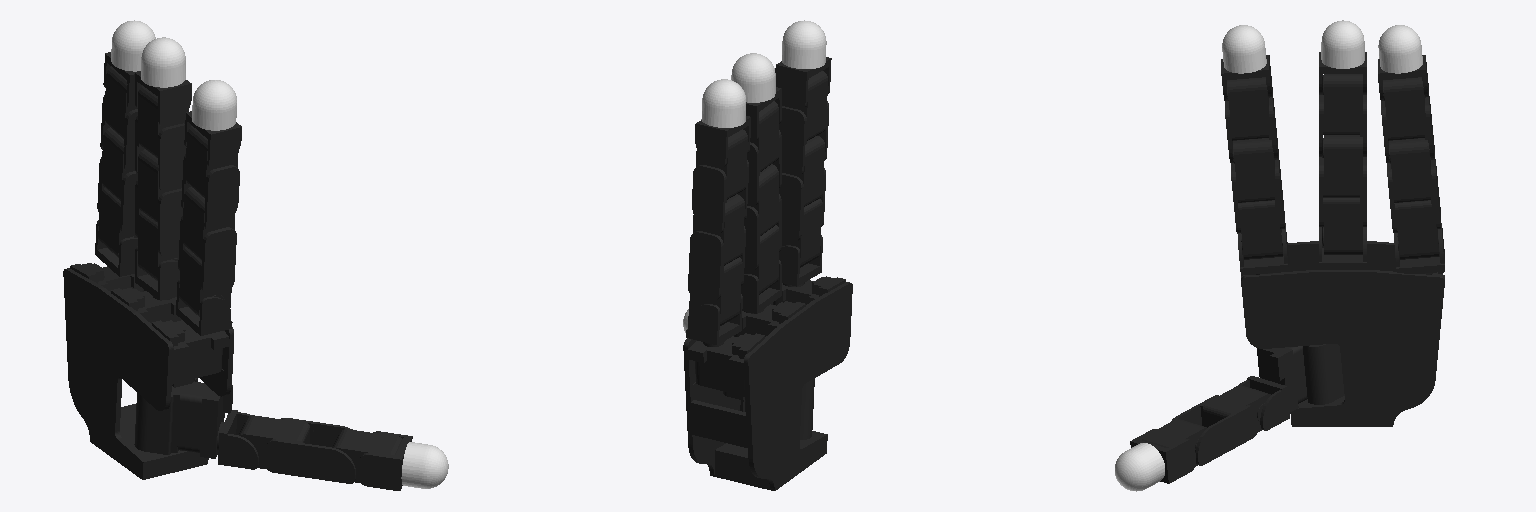
robot.urdf — allegro_hand_left:
<?xml version="1.0" ?>
<!-- =================================================================================== -->
<!-- |    This document was autogenerated by xacro from urdf/allegro_hand_description_left.xacro | -->
<!-- |    EDITING THIS FILE BY HAND IS NOT RECOMMENDED                                 | -->
<!-- =================================================================================== -->
<robot name="allegro_hand_left" xmlns:xacro="http://www.ros.org/wiki/xacro">
  <!-- ============================================================================= -->
  <!-- Base link -->
  <link name="hand_root">
    <origin xyz="0 0 0"/>
  </link>
  <joint name="root_to_base" type="fixed">
    <parent link="hand_root"/>
    <child link="palm_link"/>
    <origin xyz="0 0 0.095"/>
  </joint>
  <!-- PALM -->
  <link name="palm_link">
    <visual>
      <geometry>
        <mesh filename="../meshes/base_link_left.obj"/>
      </geometry>
      <origin rpy="-1.5707963259 0 0" xyz="0 0 0 "/>
      <material name="black">
        <color rgba="0.2 0.2 0.2 1"/>
      </material>
    </visual>
    <collision>
      <origin rpy="0 0 0" xyz="-0.009300 0 -0.0475"/>
      <geometry>
        <box size="0.0408 0.1130 0.095"/>
      </geometry>
    </collision>
    <inertial>
      <origin rpy="0 0 0" xyz="0 0 0"/>
      <mass value="0.4154"/>
      <inertia ixx="0.00517278" ixy="0.000146068" ixz="0.000373001" iyy="0.0042989" iyz="-0.00155868" izz="0.00109569" />
    </inertial>
  </link>
  <!-- [LINK 0, 4, 8] -->
  <link name="link_8">
    <visual>
      <geometry>
        <mesh filename="../meshes/link_0.0.obj"/>
      </geometry>
      <material name="black"/>
    </visual>
    <collision>
      <geometry>
        <box size="0.0196 0.0275 0.0164"/>
      </geometry>
      <origin rpy="0 0 0" xyz="0 0 0.0082"/>
    </collision>
    <inertial>
      <mass value="0.0119"/>
      <origin rpy="0 0 0" xyz="0 0 0"/>
      <inertia ixx="1.95377e-06" ixy="3.03372e-09" ixz="8.92323e-08" iyy="1.17908e-06" iyz="-3.7069e-08" izz="1.49673e-06" />
    </inertial>
  </link>
  <joint name="joint_8" type="revolute">
    <axis xyz="0 0 -1"/>
    <limit effort="15" lower="-0.47" upper="0.47" velocity="7"/>
    <parent link="palm_link"/>
    <child link="link_8"/>
    <origin rpy="0.08726646255 0 0" xyz="0 0.0435 -0.001542"/>
    <dynamics damping="1e-2" friction="10"/>
  </joint>
  <transmission name="joint_8_trans" type="transmission_interface/SimpleTransmission">
    <actuator name="joint_8_motor"/>
    <joint name="joint_8"/>
    <mechanicalReduction>1</mechanicalReduction>
    <motorTorqueConstant>1</motorTorqueConstant>
  </transmission>
  <!-- [LINK 1, 5, 9] -->
  <link name="link_9">
    <visual>
      <geometry>
        <mesh filename="../meshes/link_1.0.obj"/>
      </geometry>
      <material name="black"/>
    </visual>
    <collision>
      <geometry>
        <box size="0.0196 0.0275 0.054"/>
      </geometry>
      <origin rpy="0 0 0" xyz="0 0 0.027"/>
    </collision>
    <inertial>
      <mass value="0.065"/>
      <origin rpy="0 0 0" xyz="0 0 0"/>
      <inertia ixx="7.19218e-05" ixy="0" ixz="0" iyy="7.4377e-05" iyz="7.32186e-07" izz="5.40622e-06" />
    </inertial>
  </link>
  <joint name="joint_9" type="revolute">
    <limit effort="15" lower="-0.196" upper="1.61" velocity="7"/>
    <axis xyz="0 1 0"/>
    <parent link="link_8"/>
    <child link="link_9"/>
    <origin xyz="0 0 0.0164"/>
    <dynamics damping="1e-2" friction="5"/>
  </joint>
  <transmission name="joint_9_trans" type="transmission_interface/SimpleTransmission">
    <actuator name="joint_9_motor"/>
    <joint name="joint_9"/>
    <mechanicalReduction>1</mechanicalReduction>
    <motorTorqueConstant>1</motorTorqueConstant>
  </transmission>
  <!-- [LINK 2, 6, 10]-->
  <link name="link_10">
    <visual>
      <geometry>
        <mesh filename="../meshes/link_2.0.obj"/>
      </geometry>
      <material name="black"/>
    </visual>
    <collision>
      <geometry>
        <box size="0.0196 0.0275 0.0384"/>
      </geometry>
      <origin rpy="0 0 0" xyz="0 0 0.0192"/>
    </collision>
    <inertial>
      <mass value="0.0355"/>
      <origin rpy="0 0 0" xyz="0 0 0"/>
      <inertia ixx="3.16925e-05" ixy="1.07094e-09" ixz="-4.91273e-09" iyy="3.10516e-05" iyz="3.87549e-08" izz="3.20319e-06" />
    </inertial>
  </link>
  <joint name="joint_10" type="revolute">
    <axis xyz="0 1 0"/>
    <limit effort="15" lower="-0.174" upper="1.709" velocity="7"/>
    <parent link="link_9"/>
    <child link="link_10"/>
    <origin xyz="0 0 0.054"/>
    <dynamics damping="2.5e-2" friction="10"/>
  </joint>
  <transmission name="joint_10_trans" type="transmission_interface/SimpleTransmission">
    <actuator name="joint_10_motor"/>
    <joint name="joint_10"/>
    <mechanicalReduction>1</mechanicalReduction>
    <motorTorqueConstant>1</motorTorqueConstant>
  </transmission>
  <!-- [LINK 3, 7, 11] -->
  <link name="link_11">
    <visual>
      <geometry>
        <mesh filename="../meshes/link_3.0.obj"/>
      </geometry>
      <material name="black"/>
    </visual>
    <collision>
      <geometry>
        <box size="0.0196 0.0275 0.0267"/>
      </geometry>
      <origin rpy="0 0 0" xyz="0 0 0.01335"/>
    </collision>
    <inertial>
      <mass value="0.0096"/>
      <origin rpy="0 0 0" xyz="0 0 0"/>
      <inertia ixx="2.13975e-06" ixy="1.59554e-09" ixz="-7.47528e-09" iyy="1.52036e-06" iyz="-9.89336e-09" izz="1.20271e-06" />
    </inertial>
  </link>
  <joint name="joint_11" type="revolute">
    <axis xyz="0 1 0"/>
    <limit effort="15" lower="-0.227" upper="1.618" velocity="7"/>
    <parent link="link_10"/>
    <child link="link_11"/>
    <origin xyz="0 0 0.0384"/>
    <dynamics damping="3.2e-2" friction="12"/>
  </joint>
  <transmission name="joint_11_trans" type="transmission_interface/SimpleTransmission">
    <actuator name="joint_11_motor"/>
    <joint name="joint_11"/>
    <mechanicalReduction>1</mechanicalReduction>
    <motorTorqueConstant>1</motorTorqueConstant>
  </transmission>
  <!-- [FINGER TIP] -->
  <link name="link_11_tip">
    <visual>
      <geometry>
        <mesh filename="../meshes/link_3.0_tip.obj"/>
      </geometry>
      <material name="white">
        <color rgba=".9 .9 .9 1"/>
      </material>
    </visual>
    <collision>
      <geometry>
        <sphere radius="0.012"/>
      </geometry>
    </collision>
    <inertial>
      <mass value="0.0168"/>
      <origin rpy="0 0 0" xyz="0 0 0"/>
      <inertia ixx="1.19599e-05" ixy="0" ixz="0" iyy="1.19598e-05" iyz="0" izz="1.10345e-06" />
    </inertial>
  </link>
  <joint name="joint_11_tip" type="fixed">
    <parent link="link_11"/>
    <child link="link_11_tip"/>
    <origin rpy="0 0 0" xyz="0 0 0.0267"/>
  </joint>
  <!-- [LINK 0, 4, 8] -->
  <link name="link_4">
    <visual>
      <geometry>
        <mesh filename="../meshes/link_0.0.obj"/>
      </geometry>
      <material name="black"/>
    </visual>
    <collision>
      <geometry>
        <box size="0.0196 0.0275 0.0164"/>
      </geometry>
      <origin rpy="0 0 0" xyz="0 0 0.0082"/>
    </collision>
    <inertial>
      <mass value="0.0119"/>
      <origin rpy="0 0 0" xyz="0 0 0"/>
      <inertia ixx="1.95377e-06" ixy="3.03372e-09" ixz="8.92323e-08" iyy="1.17908e-06" iyz="-3.7069e-08" izz="1.49673e-06" />
    </inertial>
  </link>
  <joint name="joint_4" type="revolute">
    <axis xyz="0 0 -1"/>
    <limit effort="15" lower="-0.47" upper="0.47" velocity="7"/>
    <parent link="palm_link"/>
    <child link="link_4"/>
    <origin rpy="0.0 0 0" xyz="0 0 0.0007"/>
    <dynamics damping="1e-2" friction="10"/>
  </joint>
  <transmission name="joint_4_trans" type="transmission_interface/SimpleTransmission">
    <actuator name="joint_4_motor"/>
    <joint name="joint_4"/>
    <mechanicalReduction>1</mechanicalReduction>
    <motorTorqueConstant>1</motorTorqueConstant>
  </transmission>
  <!-- [LINK 1, 5, 9] -->
  <link name="link_5">
    <visual>
      <geometry>
        <mesh filename="../meshes/link_1.0.obj"/>
      </geometry>
      <material name="black"/>
    </visual>
    <collision>
      <geometry>
        <box size="0.0196 0.0275 0.054"/>
      </geometry>
      <origin rpy="0 0 0" xyz="0 0 0.027"/>
    </collision>
    <inertial>
      <mass value="0.065"/>
      <origin rpy="0 0 0" xyz="0 0 0"/>
      <inertia ixx="7.19218e-05" ixy="0" ixz="0" iyy="7.4377e-05" iyz="7.32186e-07" izz="5.40622e-06" />
    </inertial>
  </link>
  <joint name="joint_5" type="revolute">
    <limit effort="15" lower="-0.196" upper="1.61" velocity="7"/>
    <axis xyz="0 1 0"/>
    <parent link="link_4"/>
    <child link="link_5"/>
    <origin xyz="0 0 0.0164"/>
    <dynamics damping="1e-2" friction="5"/>
  </joint>
  <transmission name="joint_5_trans" type="transmission_interface/SimpleTransmission">
    <actuator name="joint_5_motor"/>
    <joint name="joint_5"/>
    <mechanicalReduction>1</mechanicalReduction>
    <motorTorqueConstant>1</motorTorqueConstant>
  </transmission>
  <!-- [LINK 2, 6, 10]-->
  <link name="link_6">
    <visual>
      <geometry>
        <mesh filename="../meshes/link_2.0.obj"/>
      </geometry>
      <material name="black"/>
    </visual>
    <collision>
      <geometry>
        <box size="0.0196 0.0275 0.0384"/>
      </geometry>
      <origin rpy="0 0 0" xyz="0 0 0.0192"/>
    </collision>
    <inertial>
      <mass value="0.0355"/>
      <origin rpy="0 0 0" xyz="0 0 0"/>
      <inertia ixx="3.16925e-05" ixy="1.07094e-09" ixz="-4.91273e-09" iyy="3.10516e-05" iyz="3.87549e-08" izz="3.20319e-06" />
    </inertial>
  </link>
  <joint name="joint_6" type="revolute">
    <axis xyz="0 1 0"/>
    <limit effort="15" lower="-0.174" upper="1.709" velocity="7"/>
    <parent link="link_5"/>
    <child link="link_6"/>
    <origin xyz="0 0 0.054"/>
    <dynamics damping="2.5e-2" friction="10"/>
  </joint>
  <transmission name="joint_6_trans" type="transmission_interface/SimpleTransmission">
    <actuator name="joint_6_motor"/>
    <joint name="joint_6"/>
    <mechanicalReduction>1</mechanicalReduction>
    <motorTorqueConstant>1</motorTorqueConstant>
  </transmission>
  <!-- [LINK 3, 7, 11] -->
  <link name="link_7">
    <visual>
      <geometry>
        <mesh filename="../meshes/link_3.0.obj"/>
      </geometry>
      <material name="black"/>
    </visual>
    <collision>
      <geometry>
        <box size="0.0196 0.0275 0.0267"/>
      </geometry>
      <origin rpy="0 0 0" xyz="0 0 0.01335"/>
    </collision>
    <inertial>
      <mass value="0.0096"/>
      <origin rpy="0 0 0" xyz="0 0 0"/>
      <inertia ixx="2.13975e-06" ixy="1.59554e-09" ixz="-7.47528e-09" iyy="1.52036e-06" iyz="-9.89336e-09" izz="1.20271e-06" />
    </inertial>
  </link>
  <joint name="joint_7" type="revolute">
    <axis xyz="0 1 0"/>
    <limit effort="15" lower="-0.227" upper="1.618" velocity="7"/>
    <parent link="link_6"/>
    <child link="link_7"/>
    <origin xyz="0 0 0.0384"/>
    <dynamics damping="3.2e-2" friction="12"/>
  </joint>
  <transmission name="joint_7_trans" type="transmission_interface/SimpleTransmission">
    <actuator name="joint_7_motor"/>
    <joint name="joint_7"/>
    <mechanicalReduction>1</mechanicalReduction>
    <motorTorqueConstant>1</motorTorqueConstant>
  </transmission>
  <!-- [FINGER TIP] -->
  <link name="link_7_tip">
    <visual>
      <geometry>
        <mesh filename="../meshes/link_3.0_tip.obj"/>
      </geometry>
      <material name="white">
        <color rgba=".9 .9 .9 1"/>
      </material>
    </visual>
    <collision>
      <geometry>
        <sphere radius="0.012"/>
      </geometry>
    </collision>
    <inertial>
      <mass value="0.0168"/>
      <origin rpy="0 0 0" xyz="0 0 0"/>
      <inertia ixx="1.19599e-05" ixy="0" ixz="0" iyy="1.19598e-05" iyz="0" izz="1.10345e-06" />
    </inertial>
  </link>
  <joint name="joint_7_tip" type="fixed">
    <parent link="link_7"/>
    <child link="link_7_tip"/>
    <origin rpy="0 0 0" xyz="0 0 0.0267"/>
  </joint>
  <!-- [LINK 0, 4, 8] -->
  <link name="link_0">
    <visual>
      <geometry>
        <mesh filename="../meshes/link_0.0.obj"/>
      </geometry>
      <material name="black"/>
    </visual>
    <collision>
      <geometry>
        <box size="0.0196 0.0275 0.0164"/>
      </geometry>
      <origin rpy="0 0 0" xyz="0 0 0.0082"/>
    </collision>
    <inertial>
      <mass value="0.0119"/>
      <origin rpy="0 0 0" xyz="0 0 0"/>
      <inertia ixx="1.95377e-06" ixy="3.03372e-09" ixz="8.92323e-08" iyy="1.17908e-06" iyz="-3.7069e-08" izz="1.49673e-06" />
    </inertial>
  </link>
  <joint name="joint_0" type="revolute">
    <axis xyz="0 0 -1"/>
    <limit effort="15" lower="-0.47" upper="0.47" velocity="7"/>
    <parent link="palm_link"/>
    <child link="link_0"/>
    <origin rpy="0.08726646255 0 0" xyz="0 -0.0435 -0.001542"/>
    <dynamics damping="1e-2" friction="10"/>
  </joint>
  <transmission name="joint_0_trans" type="transmission_interface/SimpleTransmission">
    <actuator name="joint_0_motor"/>
    <joint name="joint_0"/>
    <mechanicalReduction>1</mechanicalReduction>
    <motorTorqueConstant>1</motorTorqueConstant>
  </transmission>
  <!-- [LINK 1, 5, 9] -->
  <link name="link_1">
    <visual>
      <geometry>
        <mesh filename="../meshes/link_1.0.obj"/>
      </geometry>
      <material name="black"/>
    </visual>
    <collision>
      <geometry>
        <box size="0.0196 0.0275 0.054"/>
      </geometry>
      <origin rpy="0 0 0" xyz="0 0 0.027"/>
    </collision>
    <inertial>
      <mass value="0.065"/>
      <origin rpy="0 0 0" xyz="0 0 0"/>
      <inertia ixx="7.19218e-05" ixy="0" ixz="0" iyy="7.4377e-05" iyz="7.32186e-07" izz="5.40622e-06" />
    </inertial>
  </link>
  <joint name="joint_1" type="revolute">
    <limit effort="15" lower="-0.196" upper="1.61" velocity="7"/>
    <axis xyz="0 1 0"/>
    <parent link="link_0"/>
    <child link="link_1"/>
    <origin xyz="0 0 0.0164"/>
    <dynamics damping="1e-2" friction="5"/>
  </joint>
  <transmission name="joint_1_trans" type="transmission_interface/SimpleTransmission">
    <actuator name="joint_1_motor"/>
    <joint name="joint_1"/>
    <mechanicalReduction>1</mechanicalReduction>
    <motorTorqueConstant>1</motorTorqueConstant>
  </transmission>
  <!-- [LINK 2, 6, 10]-->
  <link name="link_2">
    <visual>
      <geometry>
        <mesh filename="../meshes/link_2.0.obj"/>
      </geometry>
      <material name="black"/>
    </visual>
    <collision>
      <geometry>
        <box size="0.0196 0.0275 0.0384"/>
      </geometry>
      <origin rpy="0 0 0" xyz="0 0 0.0192"/>
    </collision>
    <inertial>
      <mass value="0.0355"/>
      <origin rpy="0 0 0" xyz="0 0 0"/>
      <inertia ixx="3.16925e-05" ixy="1.07094e-09" ixz="-4.91273e-09" iyy="3.10516e-05" iyz="3.87549e-08" izz="3.20319e-06" />
    </inertial>
  </link>
  <joint name="joint_2" type="revolute">
    <axis xyz="0 1 0"/>
    <limit effort="15" lower="-0.174" upper="1.709" velocity="7"/>
    <parent link="link_1"/>
    <child link="link_2"/>
    <origin xyz="0 0 0.054"/>
    <dynamics damping="2.5e-2" friction="10"/>
  </joint>
  <transmission name="joint_2_trans" type="transmission_interface/SimpleTransmission">
    <actuator name="joint_2_motor"/>
    <joint name="joint_2"/>
    <mechanicalReduction>1</mechanicalReduction>
    <motorTorqueConstant>1</motorTorqueConstant>
  </transmission>
  <!-- [LINK 3, 7, 11] -->
  <link name="link_3">
    <visual>
      <geometry>
        <mesh filename="../meshes/link_3.0.obj"/>
      </geometry>
      <material name="black"/>
    </visual>
    <collision>
      <geometry>
        <box size="0.0196 0.0275 0.0267"/>
      </geometry>
      <origin rpy="0 0 0" xyz="0 0 0.01335"/>
    </collision>
    <inertial>
      <mass value="0.0096"/>
      <origin rpy="0 0 0" xyz="0 0 0"/>
      <inertia ixx="2.13975e-06" ixy="1.59554e-09" ixz="-7.47528e-09" iyy="1.52036e-06" iyz="-9.89336e-09" izz="1.20271e-06" />
    </inertial>
  </link>
  <joint name="joint_3" type="revolute">
    <axis xyz="0 1 0"/>
    <limit effort="15" lower="-0.227" upper="1.618" velocity="7"/>
    <parent link="link_2"/>
    <child link="link_3"/>
    <origin xyz="0 0 0.0384"/>
    <dynamics damping="3.2e-2" friction="12"/>
  </joint>
  <transmission name="joint_3_trans" type="transmission_interface/SimpleTransmission">
    <actuator name="joint_3_motor"/>
    <joint name="joint_3"/>
    <mechanicalReduction>1</mechanicalReduction>
    <motorTorqueConstant>1</motorTorqueConstant>
  </transmission>
  <!-- [FINGER TIP] -->
  <link name="link_3_tip">
    <visual>
      <geometry>
        <mesh filename="../meshes/link_3.0_tip.obj"/>
      </geometry>
      <material name="white">
        <color rgba=".9 .9 .9 1"/>
      </material>
    </visual>
    <collision>
      <geometry>
        <sphere radius="0.012"/>
      </geometry>
    </collision>
    <inertial>
      <mass value="0.0168"/>
      <origin rpy="0 0 0" xyz="0 0 0"/>
      <inertia ixx="1.19599e-05" ixy="0" ixz="0" iyy="1.19598e-05" iyz="0" izz="1.10345e-06" />
    </inertial>
  </link>
  <joint name="joint_3_tip" type="fixed">
    <parent link="link_3"/>
    <child link="link_3_tip"/>
    <origin rpy="0 0 0" xyz="0 0 0.0267"/>
  </joint>
  <!-- [LINK 12] -->
  <link name="link_12">
    <visual>
      <geometry>
        <mesh filename="../meshes/link_12.0_left.obj"/>
      </geometry>
      <material name="black">
        <color rgba=".2 .2 .2 1"/>
      </material>
      <origin rpy="3.1415926518 0 0" xyz="0 0 0"/>
    </visual>
    <collision>
      <geometry>
        <box size="0.0358 0.034 0.0455"/>
      </geometry>
      <origin rpy="0 0 0" xyz="-0.0179 0.009 0.0145"/>
    </collision>
    <inertial>
      <mass value="0.0176"/>
      <origin rpy="0 0 0" xyz="0 0 0"/>
      <inertia ixx="8.13883e-06" ixy="-2.55226e-06" ixz="3.89933e-06" iyy="1.31421e-05" iyz="1.46267e-06" izz="1.00171e-05" />
    </inertial>
  </link>
  <joint name="joint_12" type="revolute">
    <axis xyz="1 0 0"/>
    <limit effort="15" lower="0.263" upper="1.396" velocity="7"/>
    <parent link="palm_link"/>
    <child link="link_12"/>
    <origin rpy="0 -1.65806278845 1.5707963259" xyz="-0.0182 -0.019333 -0.045987"/>
    <dynamics damping="1e-2" friction="10"/>
  </joint>
  <transmission name="joint_12_trans" type="transmission_interface/SimpleTransmission">
    <actuator name="joint_12_motor"/>
    <joint name="joint_12"/>
    <mechanicalReduction>1</mechanicalReduction>
    <motorTorqueConstant>1</motorTorqueConstant>
  </transmission>
  <!-- [LINK 13] -->
  <link name="link_13">
    <visual>
      <geometry>
        <mesh filename="../meshes/link_13.0.obj"/>
      </geometry>
      <material name="black">
        <color rgba=".2 .2 .2 1"/>
      </material>
    </visual>
    <collision>
      <geometry>
        <box size="0.0196 0.0275 0.0177"/>
      </geometry>
      <origin rpy="0 0 0" xyz="0 0 0.00885"/>
    </collision>
    <inertial>
      <mass value="0.0119"/>
      <origin rpy="0 0 0" xyz="0 0 0"/>
      <inertia ixx="1.9263e-06" ixy="3.05433e-09" ixz="8.86582e-08" iyy="1.15276e-06" iyz="-3.64521e-08" izz="1.4957e-06" />
    </inertial>
  </link>
  <joint name="joint_13" type="revolute">
    <axis xyz="0 0 -1"/>
    <limit effort="15" lower="-0.105" upper="1.163" velocity="7"/>
    <parent link="link_12"/>
    <child link="link_13"/>
    <origin xyz="-0.027 -0.005 0.0399"/>
    <dynamics damping="1e-2" friction="5"/>
  </joint>
  <transmission name="joint_13_trans" type="transmission_interface/SimpleTransmission">
    <actuator name="joint_13_motor"/>
    <joint name="joint_13"/>
    <mechanicalReduction>1</mechanicalReduction>
    <motorTorqueConstant>1</motorTorqueConstant>
  </transmission>
  <!-- [LINK 14] -->
  <link name="link_14">
    <visual>
      <geometry>
        <mesh filename="../meshes/link_14.0.obj"/>
      </geometry>
      <material name="black">
                </material>
    </visual>
    <collision>
      <geometry>
        <box size="0.0196 0.0275 0.0514"/>
      </geometry>
      <origin rpy="0 0 0" xyz="0 0 0.0257"/>
    </collision>
    <inertial>
      <mass value="0.038"/>
      <origin rpy="0 0 0" xyz="0 0 0"/>
      <inertia ixx="3.67044e-05" ixy="1.02277e-09" ixz="1.4854e-07" iyy="3.54042e-05" iyz="-3.67203e-08" izz="3.63275e-06" />
    </inertial>
  </link>
  <joint name="joint_14" type="revolute">
    <axis xyz="0 1 0"/>
    <limit effort="15" lower="-0.189" upper="1.644" velocity="7"/>
    <parent link="link_13"/>
    <child link="link_14"/>
    <origin xyz="0 0 0.0177"/>
    <dynamics damping="1e-2" friction="10"/>
  </joint>
  <transmission name="joint_14_trans" type="transmission_interface/SimpleTransmission">
    <actuator name="joint_14_motor"/>
    <joint name="joint_14"/>
    <mechanicalReduction>1</mechanicalReduction>
    <motorTorqueConstant>1</motorTorqueConstant>
  </transmission>
  <!-- [LINK 15] -->
  <link name="link_15">
    <visual>
      <geometry>
        <mesh filename="../meshes/link_15.0.obj"/>
      </geometry>
      <material name="black">
                </material>
    </visual>
    <collision>
      <geometry>
        <box size="0.0196 0.0275 0.0423"/>
      </geometry>
      <origin rpy="0 0 0" xyz="0 0 0.02115"/>
    </collision>
    <inertial>
      <mass value="0.0388"/>
      <origin rpy="0 0 0" xyz="0 0 0"/>
      <inertia ixx="4.30919e-05" ixy="0" ixz="0" iyy="3.85425e-05" iyz="-3.0146e-08" izz="1.72974e-05" />
    </inertial>
  </link>
  <joint name="joint_15" type="revolute">
    <axis xyz="0 1 0"/>
    <limit effort="15" lower="-0.162" upper="1.719" velocity="7"/>
    <parent link="link_14"/>
    <child link="link_15"/>
    <origin xyz="0 0 0.0514"/>
    <dynamics damping="1e-2" friction="12"/>
  </joint>
  <transmission name="joint_15_trans" type="transmission_interface/SimpleTransmission">
    <actuator name="joint_15_motor"/>
    <joint name="joint_15"/>
    <mechanicalReduction>1</mechanicalReduction>
    <motorTorqueConstant>1</motorTorqueConstant>
  </transmission>
  <!-- [FINGER TIP] -->
  <link name="link_15_tip">
    <visual>
      <geometry>
        <mesh filename="../meshes/link_15.0_tip.obj"/>
      </geometry>
      <material name="white">
        <color rgba=".9 .9 .9 1"/>
      </material>
    </visual>
    <collision>
      <geometry>
        <sphere radius="0.012"/>
      </geometry>
      <origin rpy="0 0 0" xyz="0 0 0"/>
    </collision>
    <inertial>
      <mass value="0.0168"/>
      <origin rpy="0 0 0" xyz="0 0 0"/>
      <inertia ixx="1.19599e-05" ixy="0" ixz="0" iyy="1.19598e-05" iyz="0" izz="1.10345e-06" />
    </inertial>
  </link>
  <joint name="joint_15_tip" type="fixed">
    <parent link="link_15"/>
    <child link="link_15_tip"/>
    <origin rpy="0 0 0" xyz="0 0 0.0423"/>
  </joint>
  <!-- ============================================================================= -->
  <!-- END THUMB MACRO -->
  <!-- [[END]] THREE FINGER MACRO -->
</robot>

--- Facts derived from the render (not from the file) ---
Views: 3 orthographic renders of the robot side by side, from view 1: azimuth 30°, elevation 25°; view 2: azimuth 150°, elevation 25°; view 3: azimuth 270°, elevation 25°.
Model allegro_hand_left with 22 links and 21 joints (16 revolute, 5 fixed), rooted at hand_root, posed all joints at 0 but 1 set to mid-range because 0 is outside their limits (joint_12 = 0.8295).
Links seen in each view (by area): view 1: palm_link, link_14, link_12, link_1, link_5, link_9, link_2, link_15, link_6, link_10, link_3_tip, link_7_tip (+9 smaller); view 2: palm_link, link_9, link_1, link_10, link_5, link_2, link_6, link_11_tip, link_3_tip, link_7_tip, link_8, link_11 (+5 smaller); view 3: palm_link, link_9, link_1, link_5, link_12, link_14, link_10, link_2, link_6, link_15, link_15_tip, link_7_tip (+9 smaller).
Link boxes in pixels (x1,y1,x2,y2): palm_link: (63, 263, 233, 479); link_14: (239, 415, 355, 483); link_12: (134, 378, 232, 458); link_1: (178, 187, 236, 316); link_5: (135, 149, 182, 280); link_9: (97, 127, 137, 257); link_2: (181, 126, 239, 230); link_15: (333, 429, 412, 490); link_6: (135, 86, 188, 191); link_10: (100, 66, 137, 171); link_3_tip: (192, 80, 236, 130); link_7_tip: (141, 37, 185, 87); palm_link: (683, 276, 852, 490); link_9: (688, 194, 745, 325); link_1: (779, 136, 825, 267); link_10: (692, 129, 748, 233); link_5: (744, 164, 781, 294); link_2: (779, 71, 828, 174); link_6: (747, 101, 781, 205); link_11_tip: (701, 79, 745, 127); link_3_tip: (782, 20, 826, 68); link_7_tip: (731, 53, 775, 102); link_8: (686, 294, 742, 344); link_11: (695, 116, 750, 167); palm_link: (1241, 241, 1444, 426); link_9: (1387, 138, 1440, 259); link_1: (1231, 138, 1284, 259); link_5: (1319, 135, 1366, 254); link_12: (1257, 344, 1344, 411); link_14: (1171, 385, 1270, 465); link_10: (1381, 77, 1434, 162); link_2: (1225, 77, 1278, 162); link_6: (1319, 74, 1366, 156); link_15: (1130, 419, 1206, 483); link_15_tip: (1115, 443, 1164, 491); link_7_tip: (1321, 20, 1364, 68).
Size in the robot's own frame: 0.1383 by 0.184 by 0.2432 metres.
21 mesh visuals loaded from 11 distinct referenced files (11 OBJ).